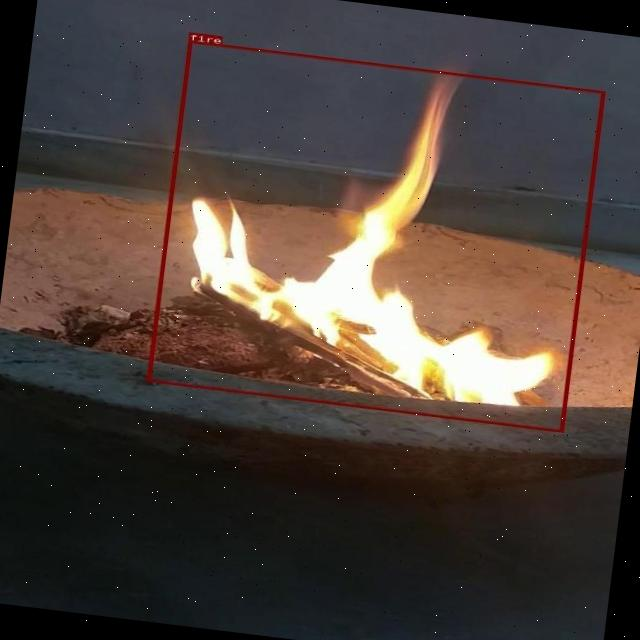fire: (146, 40, 605, 432)
